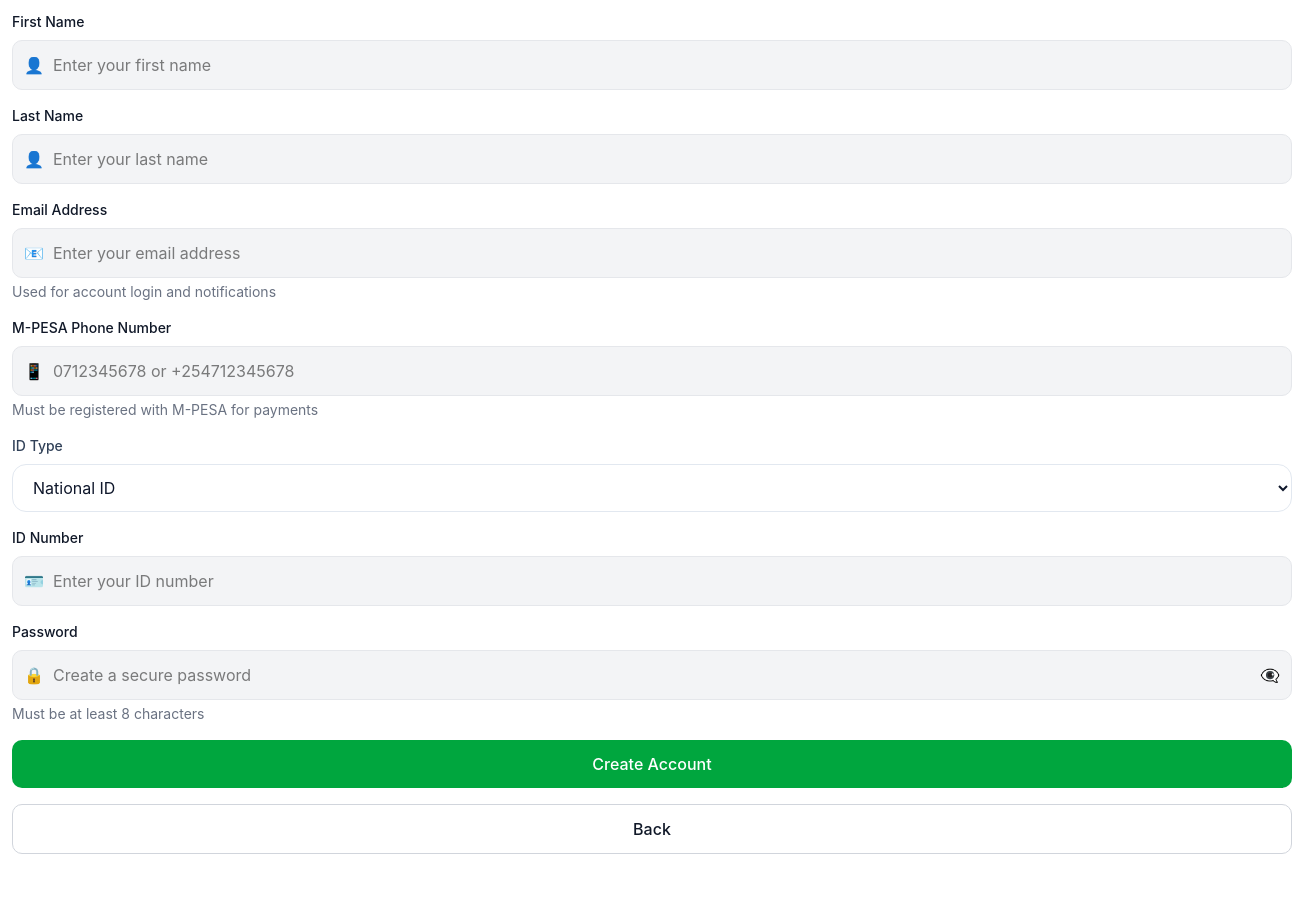
Test case: SignupForm › shows error when password is too short
In the field labelled "First Name": (652, 65) [12,40,1292,90], type "John"
In the field labelled "Last Name": (652, 159) [12,134,1292,184], type "Doe"
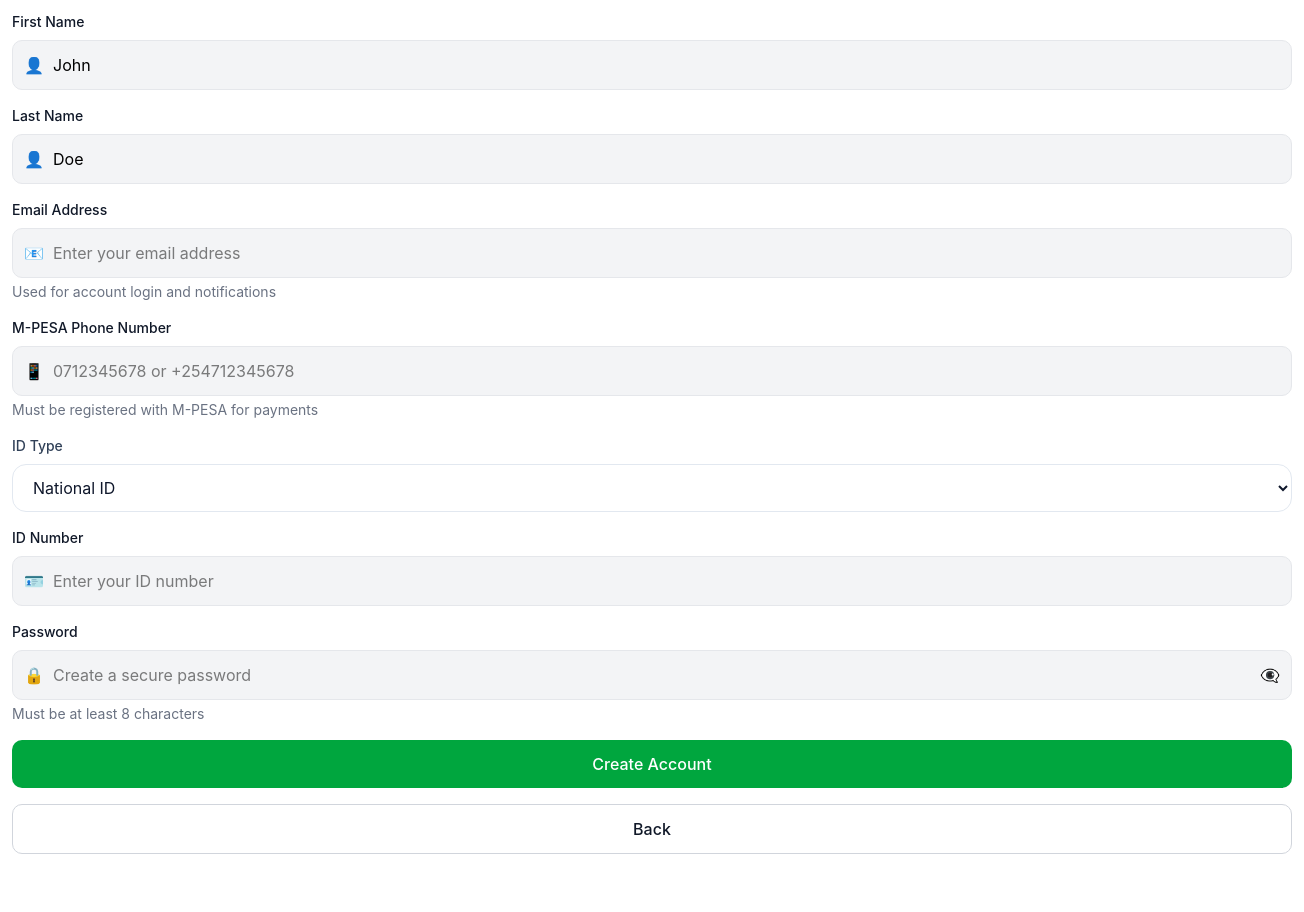
In the field labelled "Email Address": (652, 253) [12,228,1292,278], type "john@example.com"
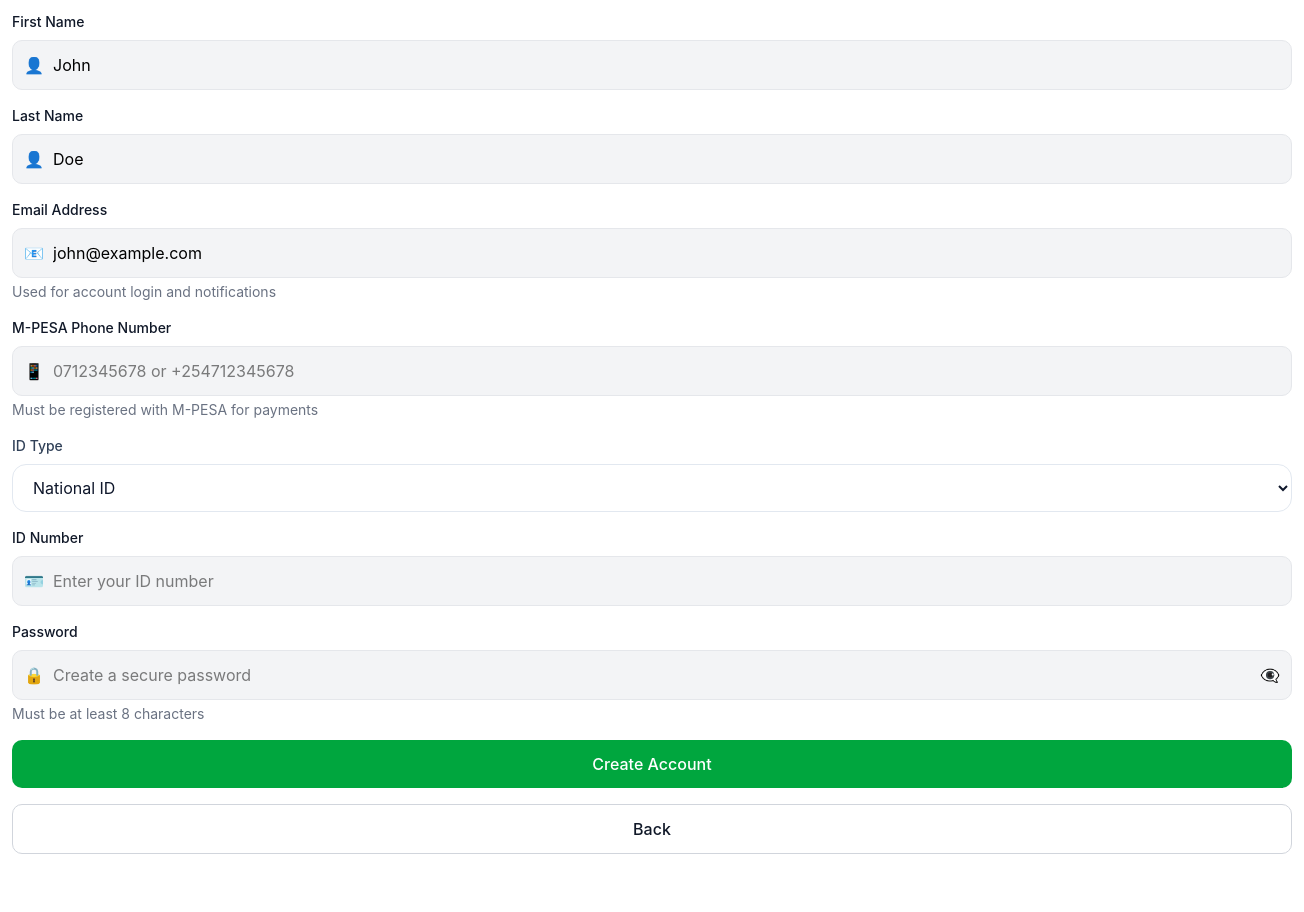
In the field labelled "M-PESA Phone Number": (652, 371) [12,346,1292,396], type "+254712345678"
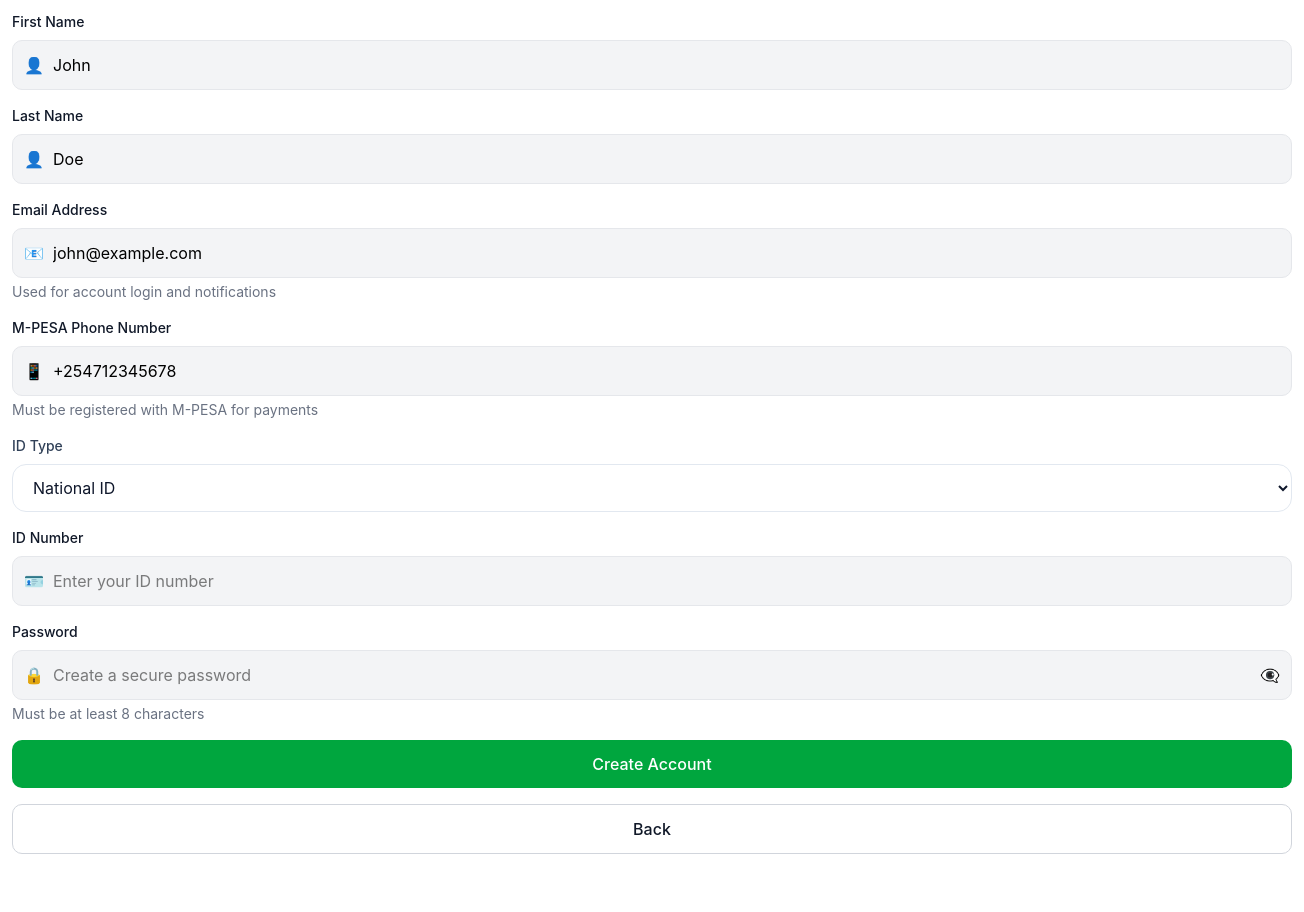
Select "National ID" in the dropdown labelled "ID Type": (652, 488) [12,464,1292,512]
In the field labelled "ID Number": (652, 581) [12,556,1292,606], type "12345678"
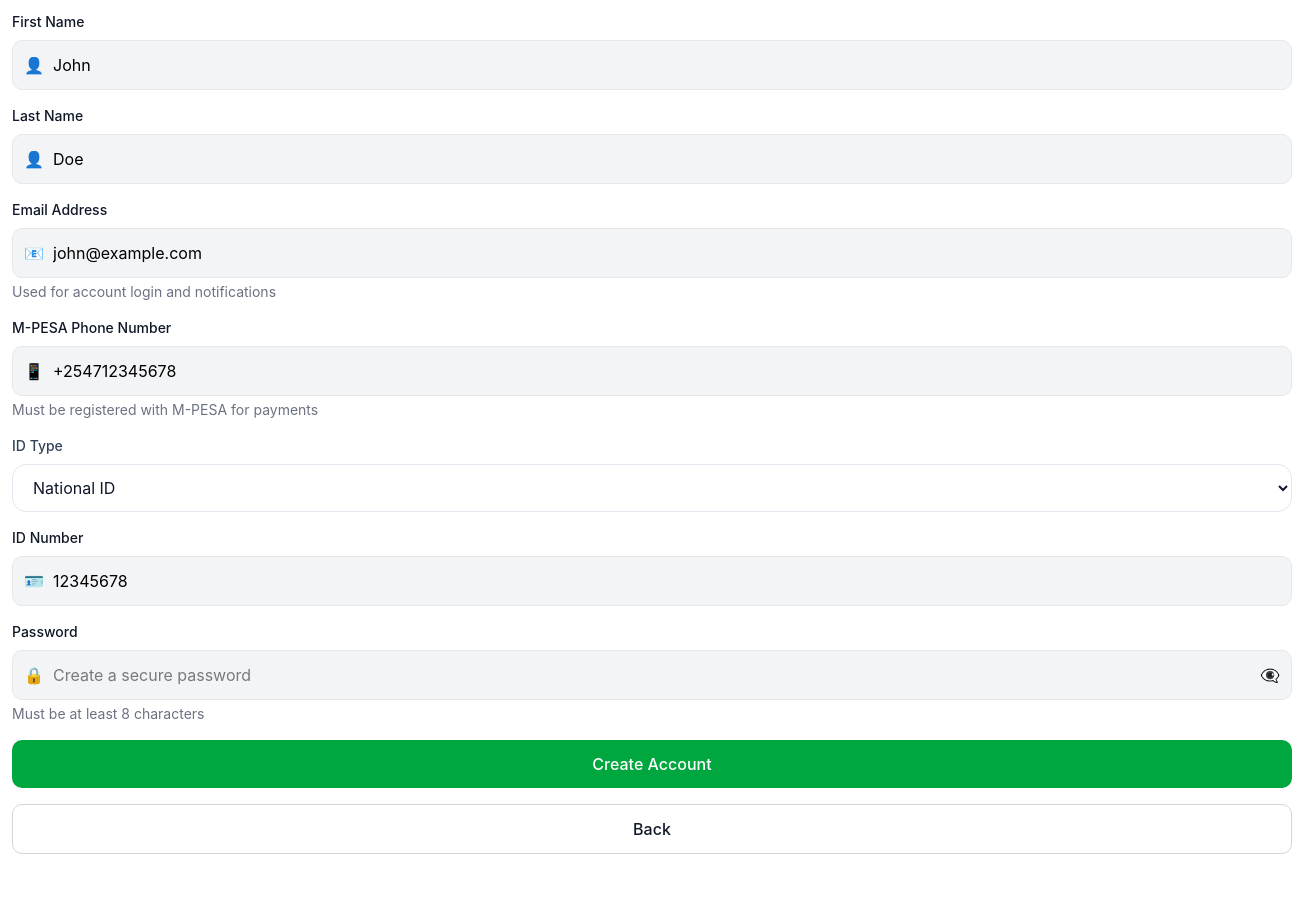
In the password field labelled "Password": (652, 675) [12,650,1292,700], type "1234567"
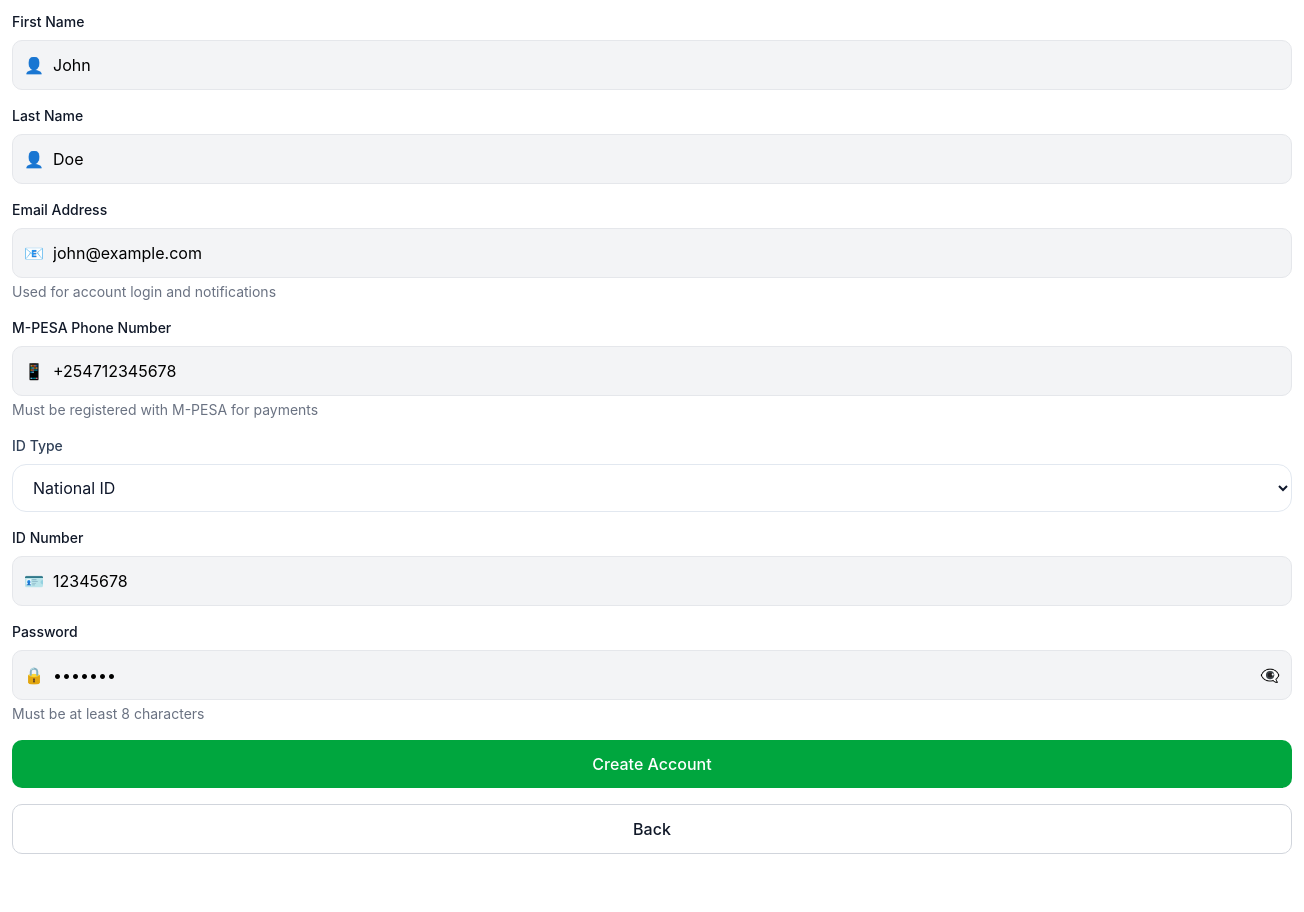
Click the button "Create Account": (652, 764) [12,740,1292,788]
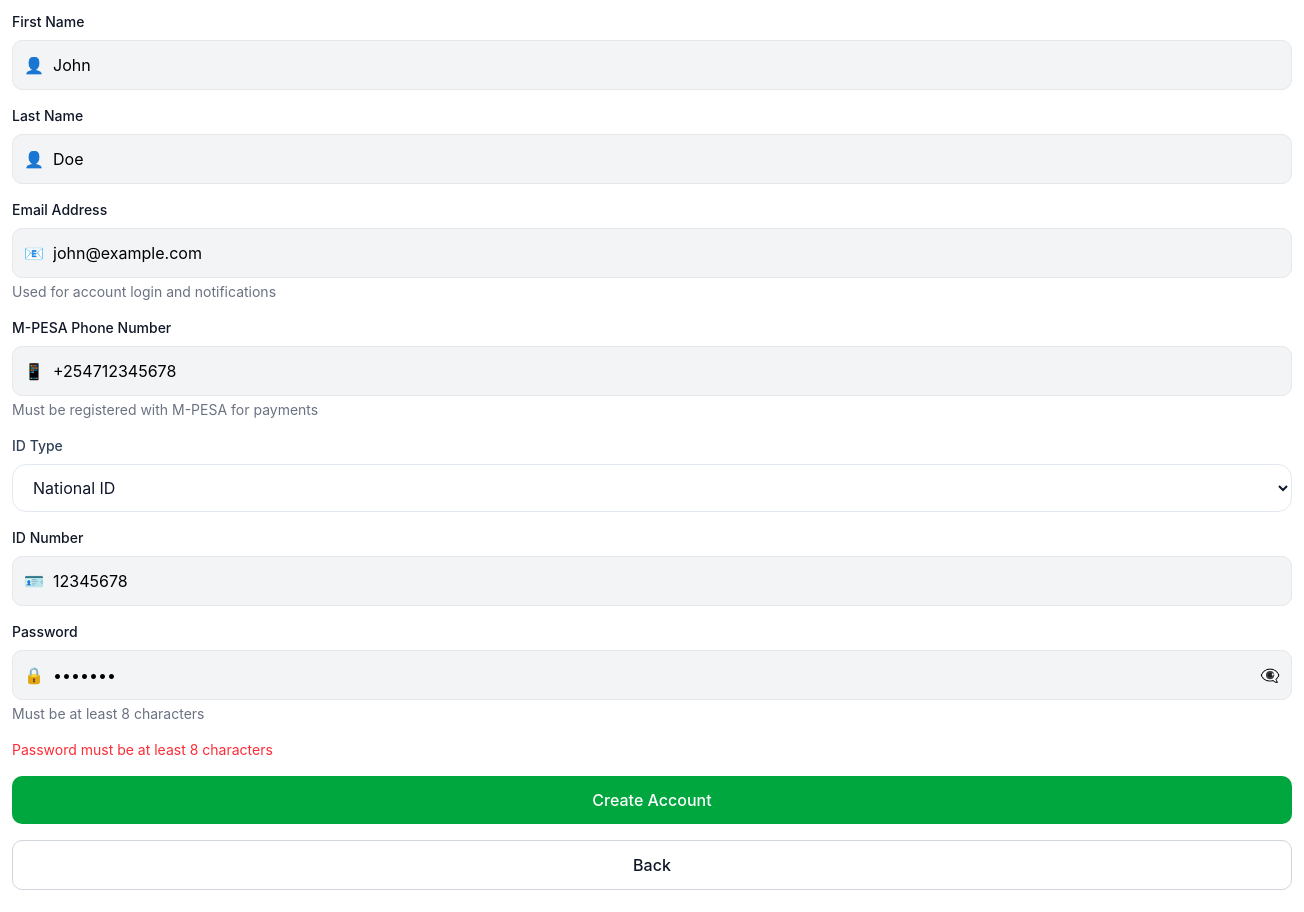
Check: the text "Password must be at least 8 characters" is shown, box [12,741,273,758]
